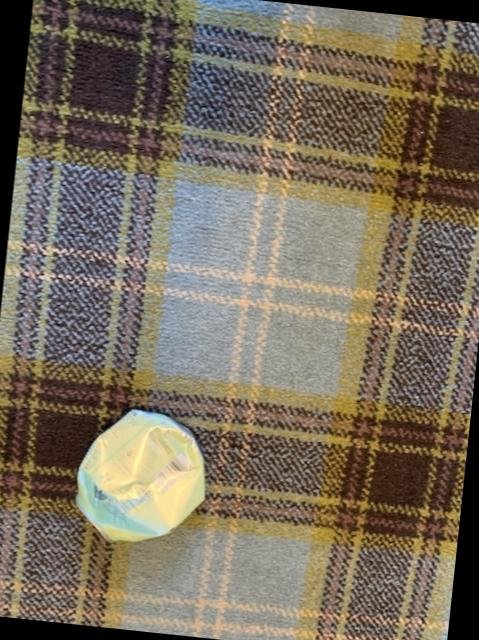metal: (77, 409, 205, 540)
